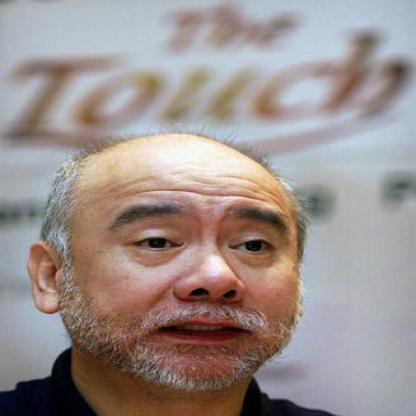face: (56, 135, 312, 397)
